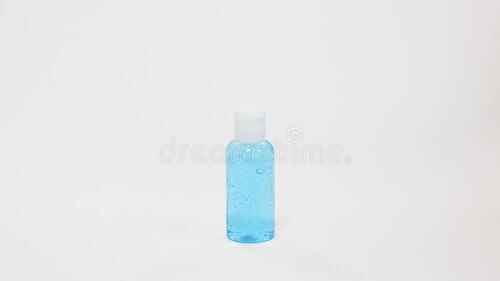sanitizer: (225, 104, 278, 246)
